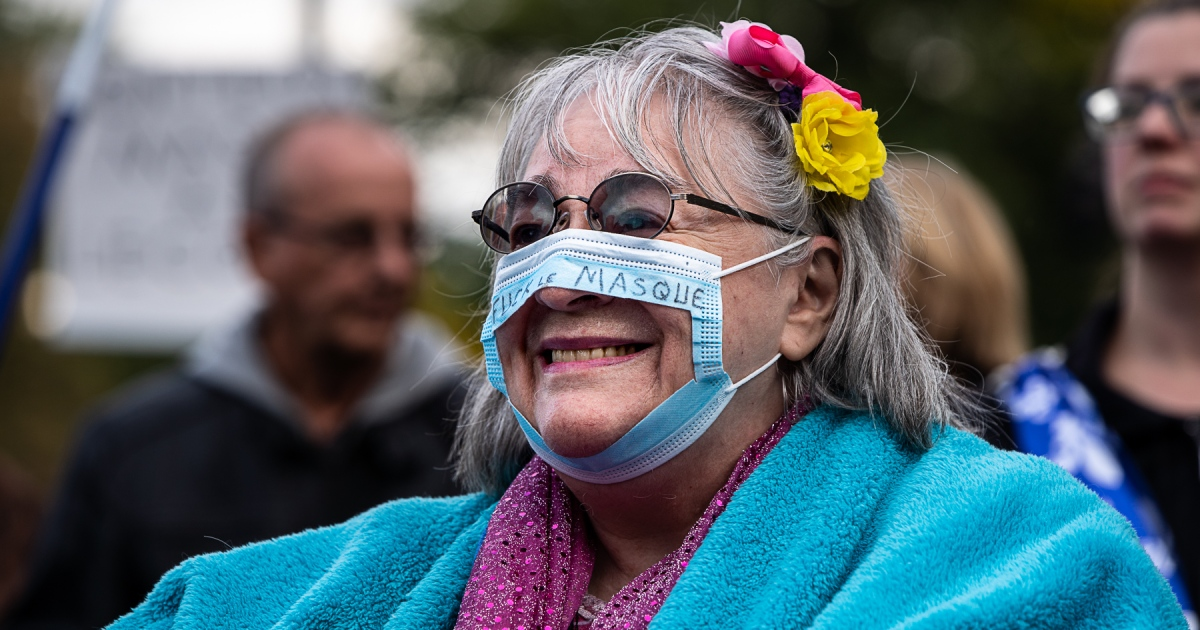with_incorrect_mask: (471, 92, 816, 496)
